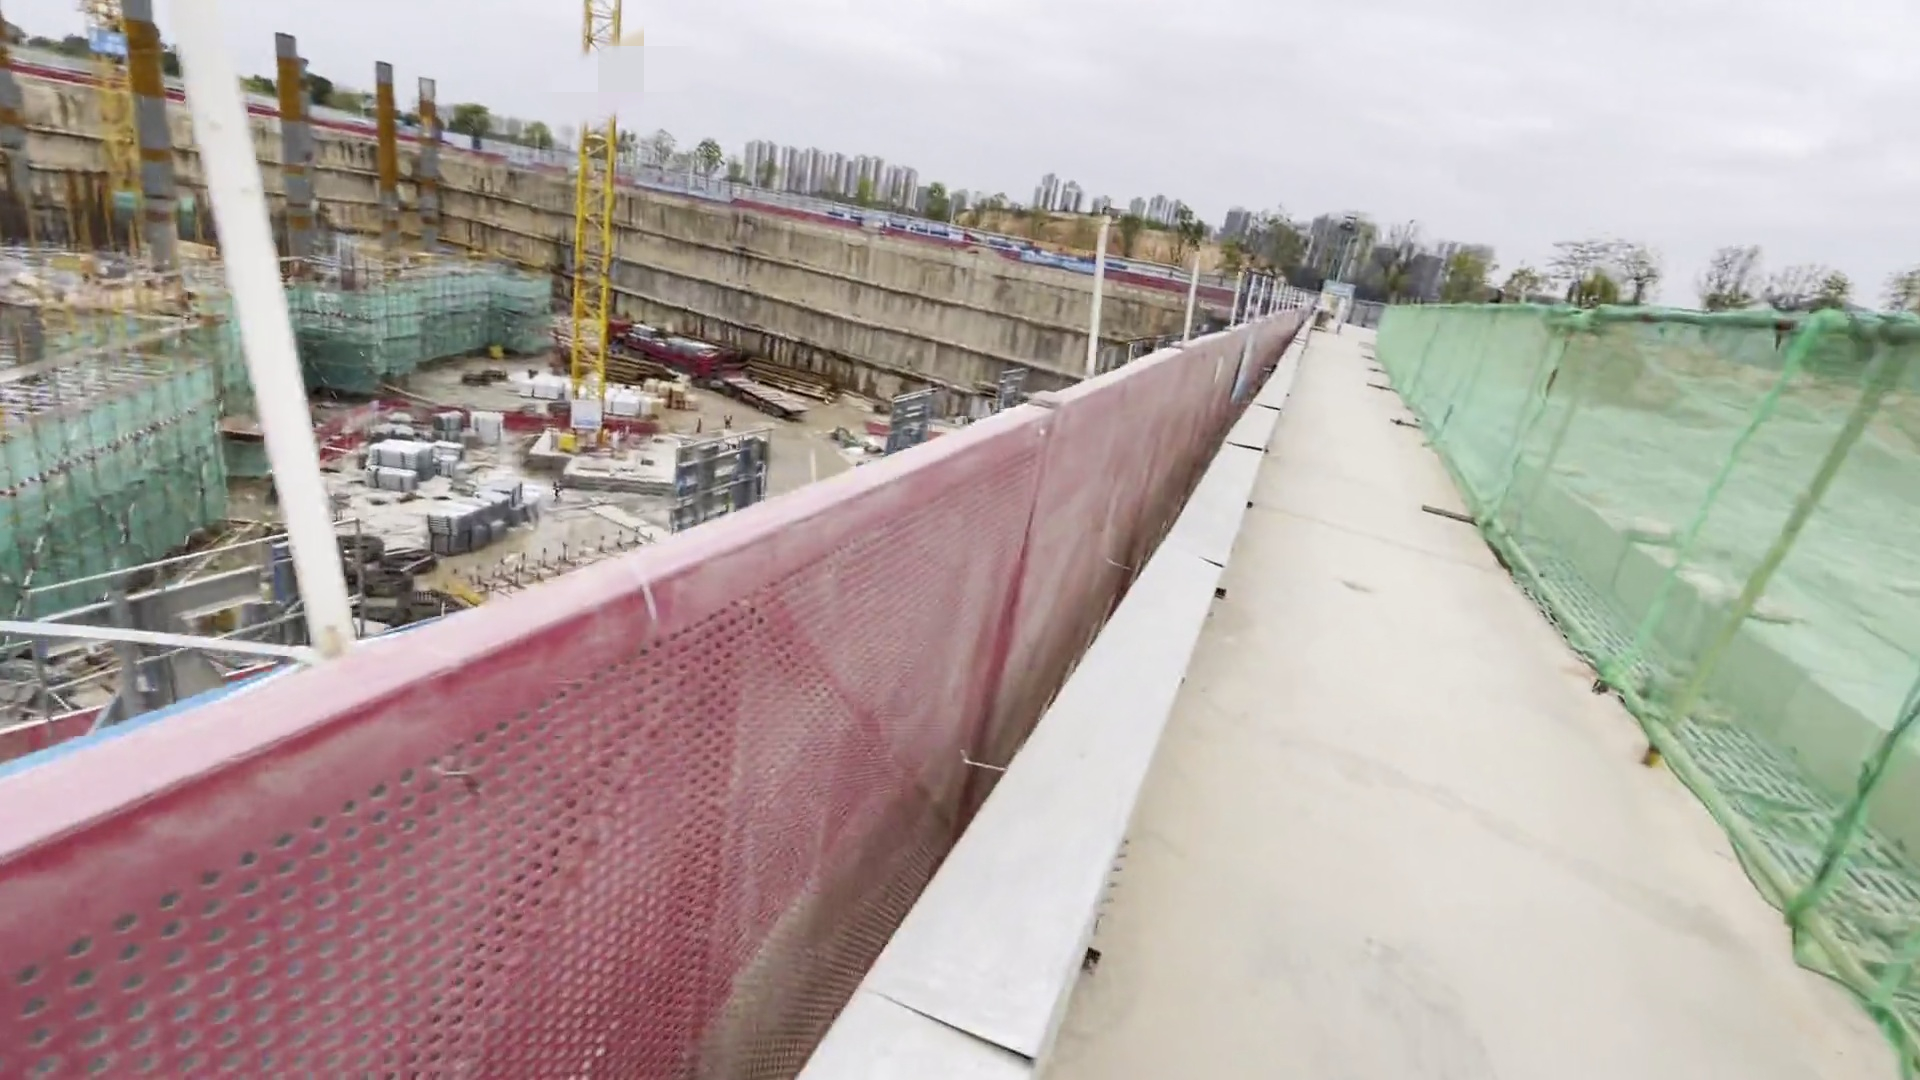fence: (1, 309, 1307, 1080)
scaffold: (425, 483, 525, 553), (367, 443, 439, 495)
